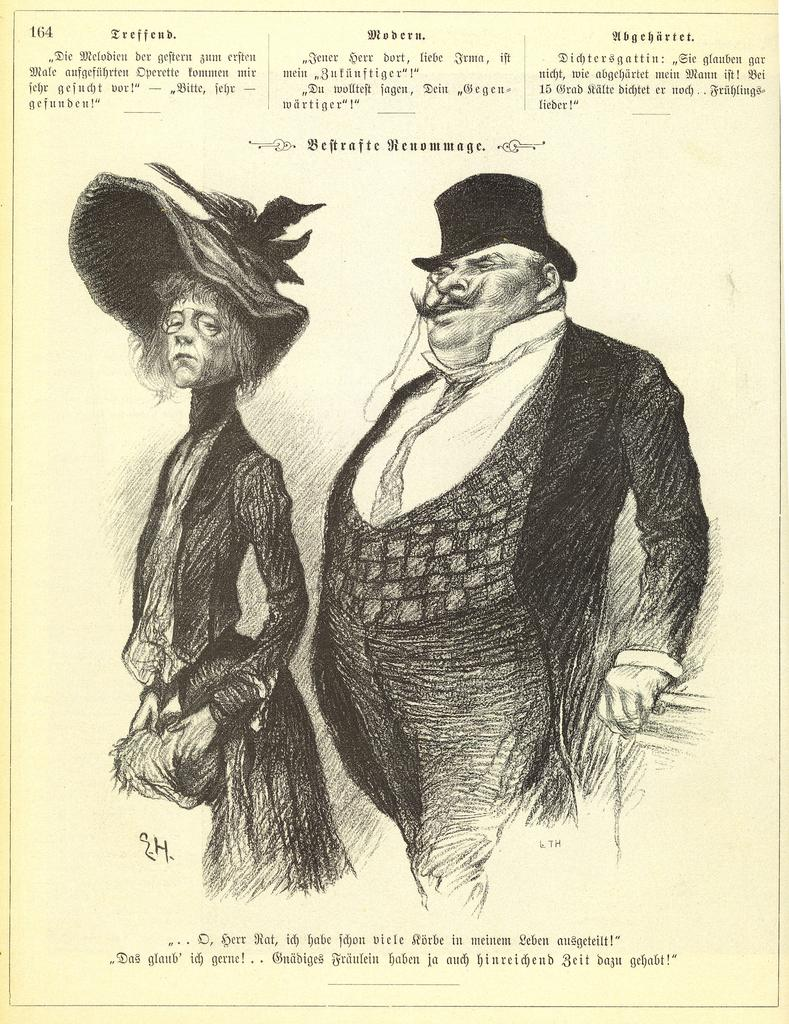Hat: (66, 159, 328, 339), (407, 170, 578, 280)
